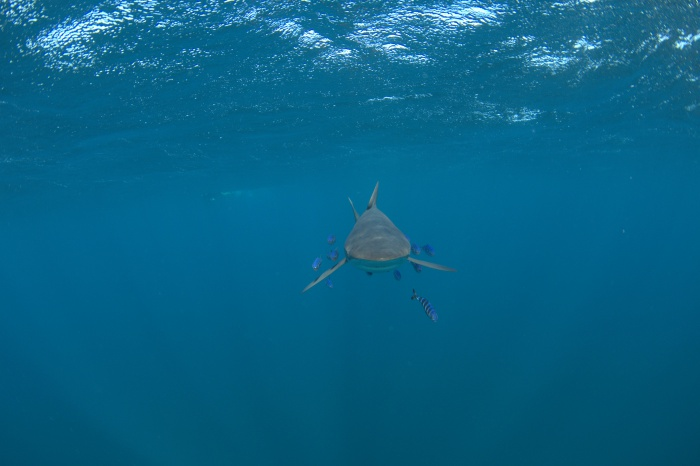Sedoso: (286, 175, 467, 300)
